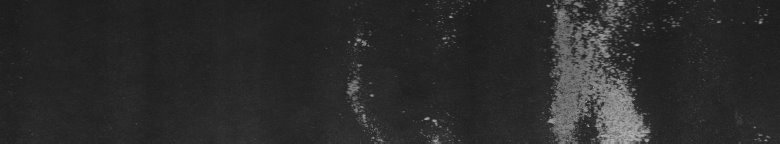kb: (540, 4, 640, 136)
